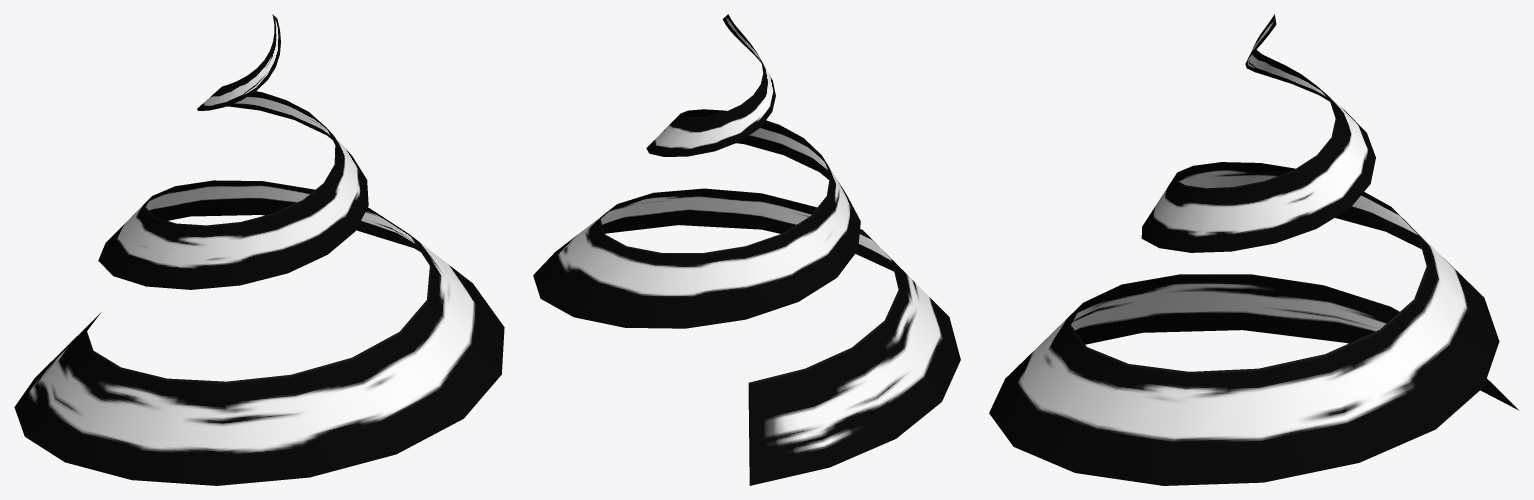
File: p_mesh_drillspawner_swirl.fbx
The picture shows the model from 3 angles, left to right: view 1: azimuth 30°, elevation 25°; view 2: azimuth 150°, elevation 25°; view 3: azimuth 270°, elevation 25°; orthographic projection. The views are drawn at different scales.
Parts seen in each view (by area): view 1: Spiral.001; view 2: Spiral.001; view 3: Spiral.001.
Boxes of the visible parts, <box> form: Spiral.001: <box>14,14,504,485</box>; Spiral.001: <box>533,14,960,485</box>; Spiral.001: <box>989,14,1518,485</box>.
Size of the model in its own units: 4.55 by 4.27 by 4.38.
Materials: 1 (1 with a texture image).
